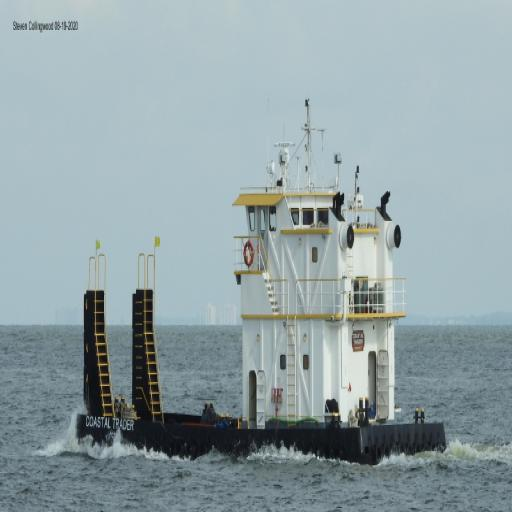tugboat: (74, 95, 450, 474)
